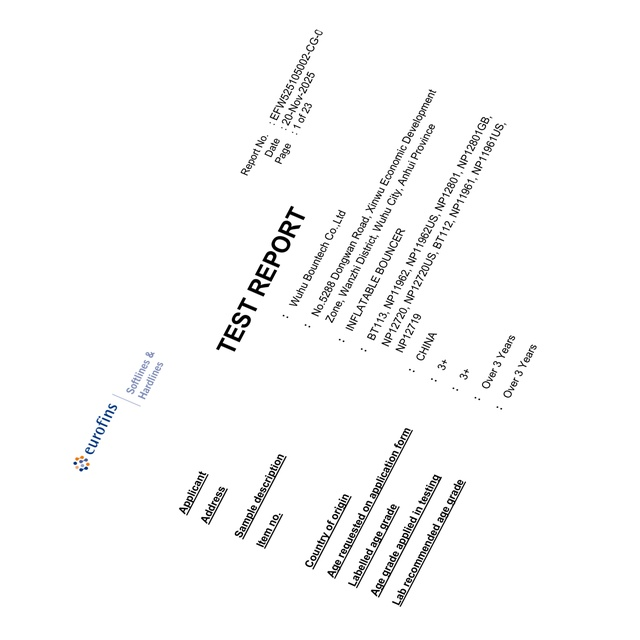eurofins: (72, 398, 120, 476)
